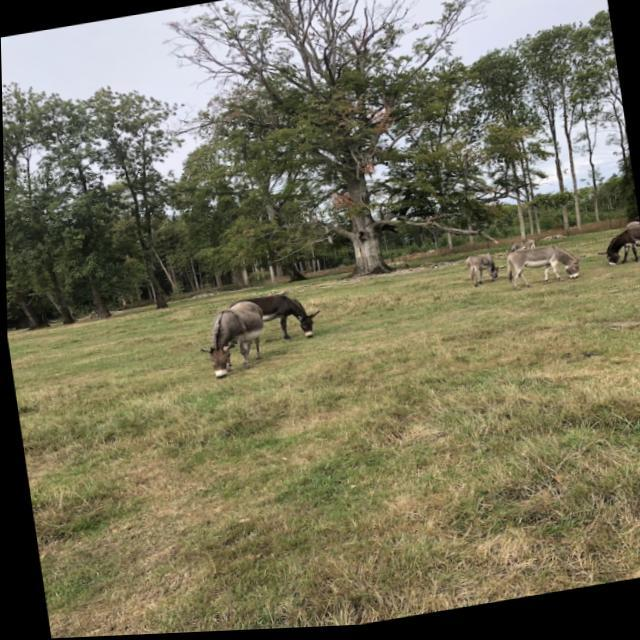Donkey: (191, 298, 270, 384), (225, 288, 323, 352), (502, 243, 588, 297), (592, 232, 640, 274), (462, 252, 508, 292), (505, 242, 535, 258)
